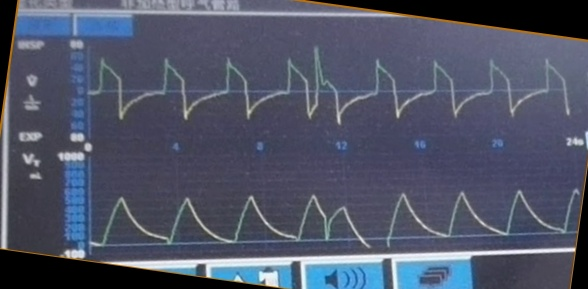Double_Triggering Flow: (99, 46, 565, 129)
Double_Triggering Volume: (103, 184, 570, 246)
